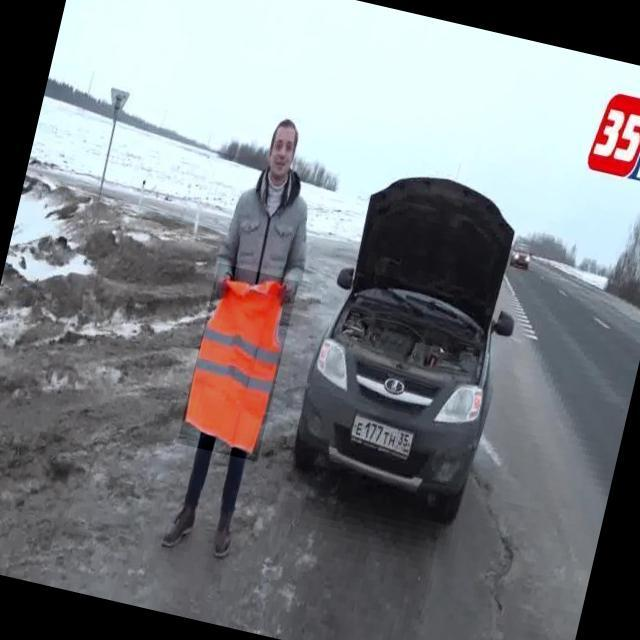Safety Vest: (177, 263, 298, 462)
